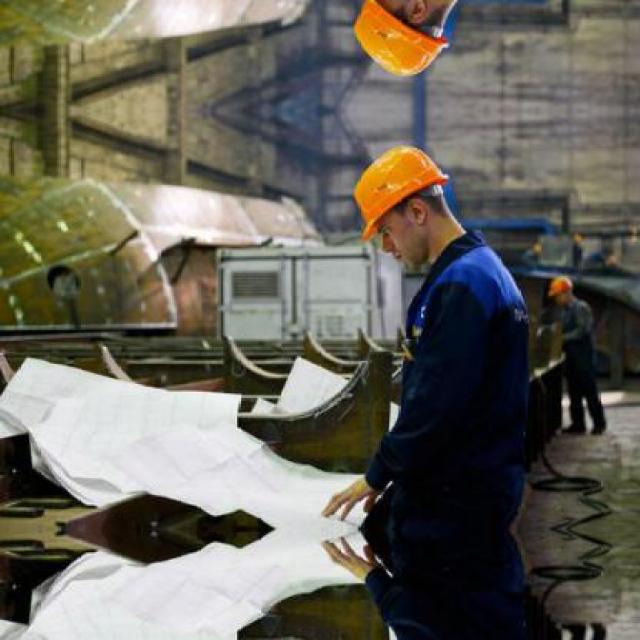helmet: (342, 138, 464, 268), (342, 0, 466, 85), (546, 272, 574, 309)
